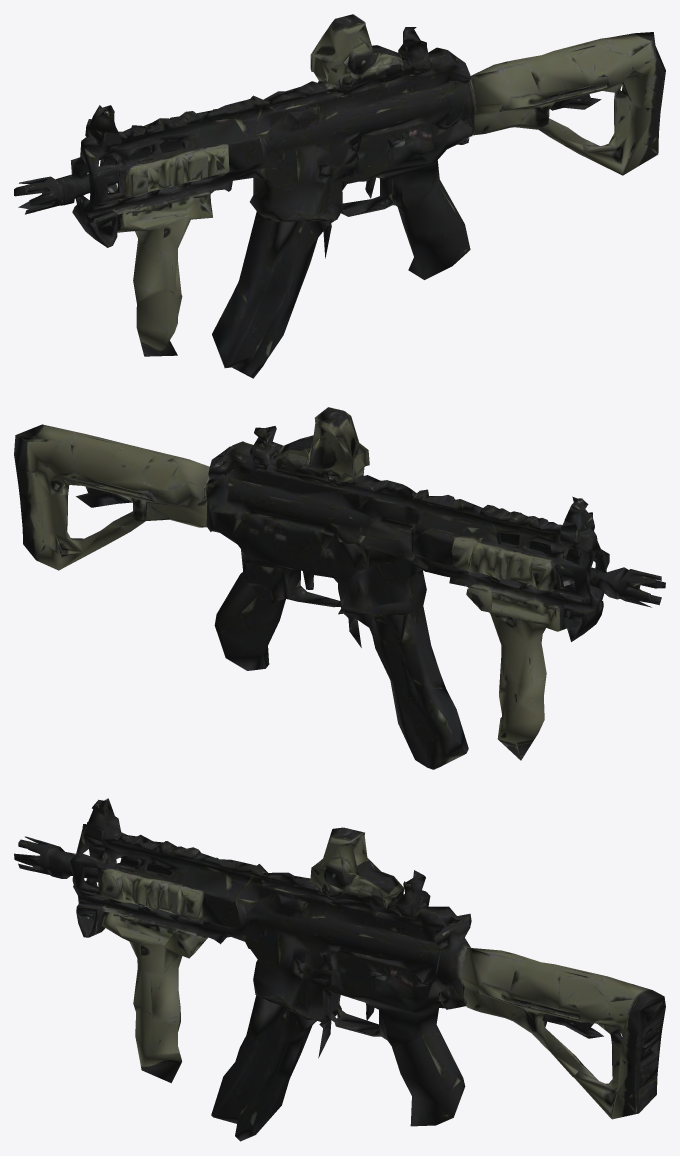
Rendered from gun_pdw_lo.glb.
3 views of the same model, one above another, from view 1: azimuth 30°, elevation 25°; view 2: azimuth 150°, elevation 25°; view 3: azimuth 330°, elevation 25° (orthographic).
Size of the model in its own units: 1.9 by 0.935 by 0.1782.
Materials: 1 (1 with a texture image).
